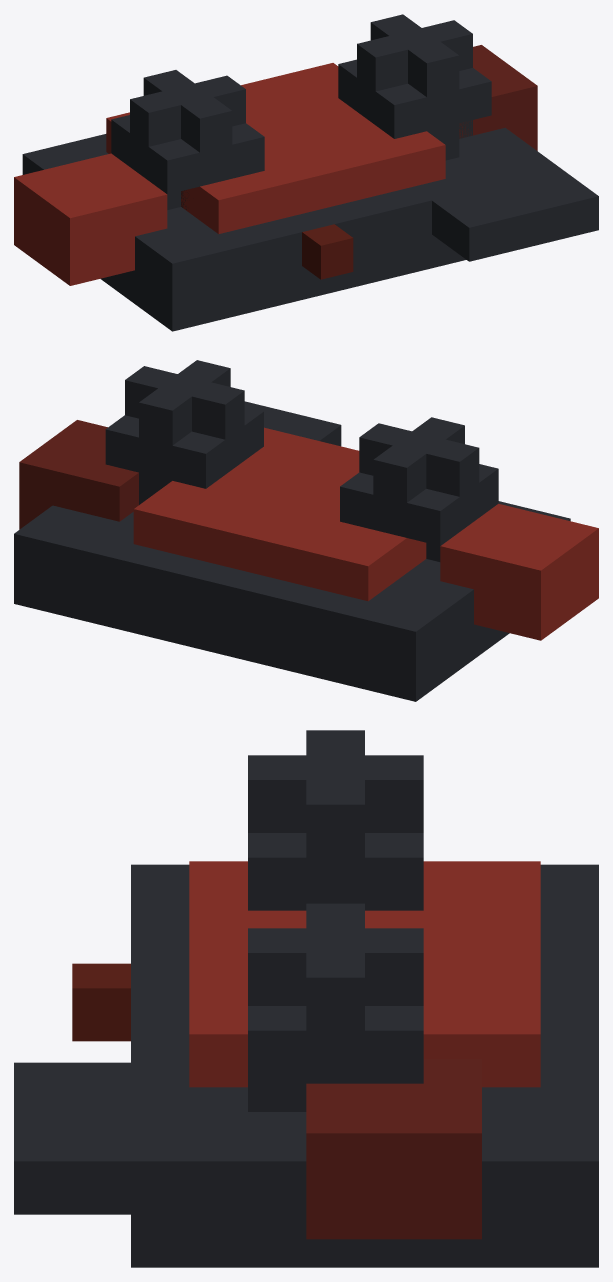
Rendered from mech_bomber_destroyed.glb.
3 renders of one model, top to bottom at view 1: azimuth 30°, elevation 25°; view 2: azimuth 150°, elevation 25°; view 3: azimuth 270°, elevation 25°, orthographic. The views are drawn at different scales.
Visible parts, largest first — view 1: Wreck mesh, Bomb mesh, Ember mesh; view 2: Wreck mesh, Bomb mesh; view 3: Wreck mesh, Bomb mesh, Ember mesh.
Boxes of the visible parts, bbox=[...] form: Wreck mesh: bbox=[14, 45, 598, 331]; Bomb mesh: bbox=[111, 14, 491, 209]; Ember mesh: bbox=[302, 224, 353, 279]; Wreck mesh: bbox=[14, 401, 598, 701]; Bomb mesh: bbox=[105, 360, 498, 561]; Wreck mesh: bbox=[14, 861, 598, 1267]; Bomb mesh: bbox=[248, 730, 423, 1111]; Ember mesh: bbox=[72, 963, 130, 1041].
Size of the model in its own units: 15 by 5 by 10.
Materials: 1 (1 with a texture image).
